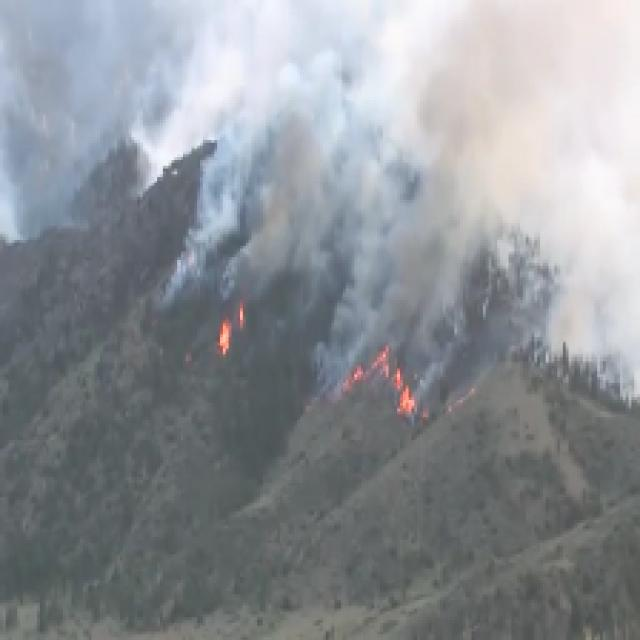smoke: (252, 7, 640, 313), (17, 9, 241, 142)
